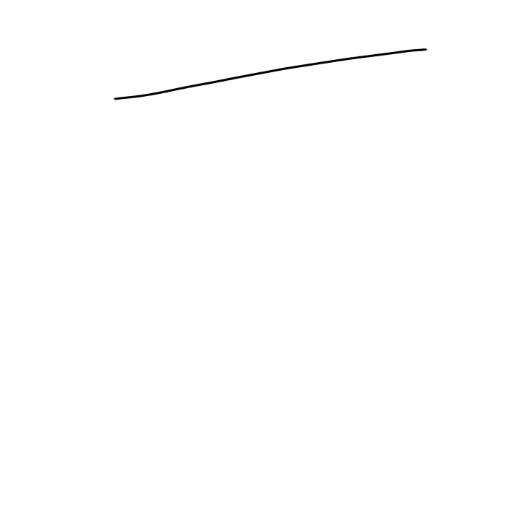line: (101, 43, 435, 110)
